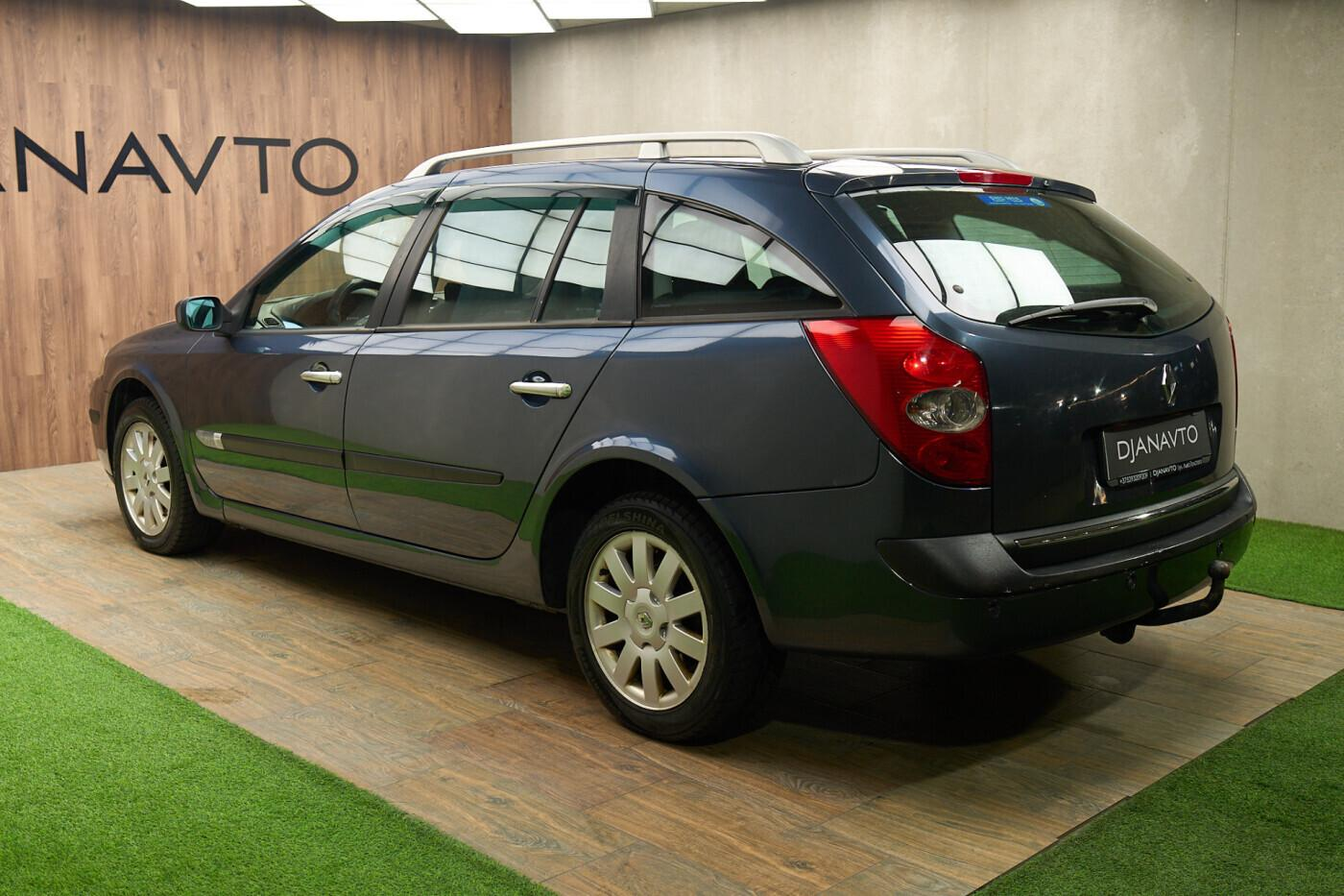Laguna_2005-2007: (86, 144, 1258, 731)
